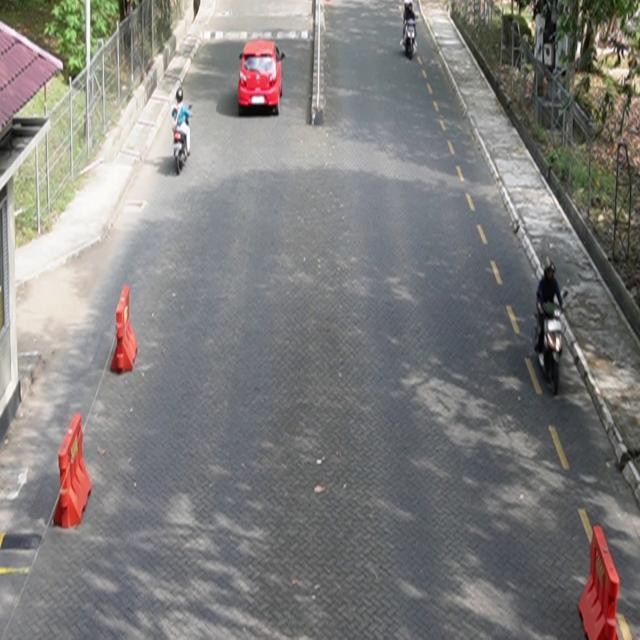car: (238, 39, 287, 116)
